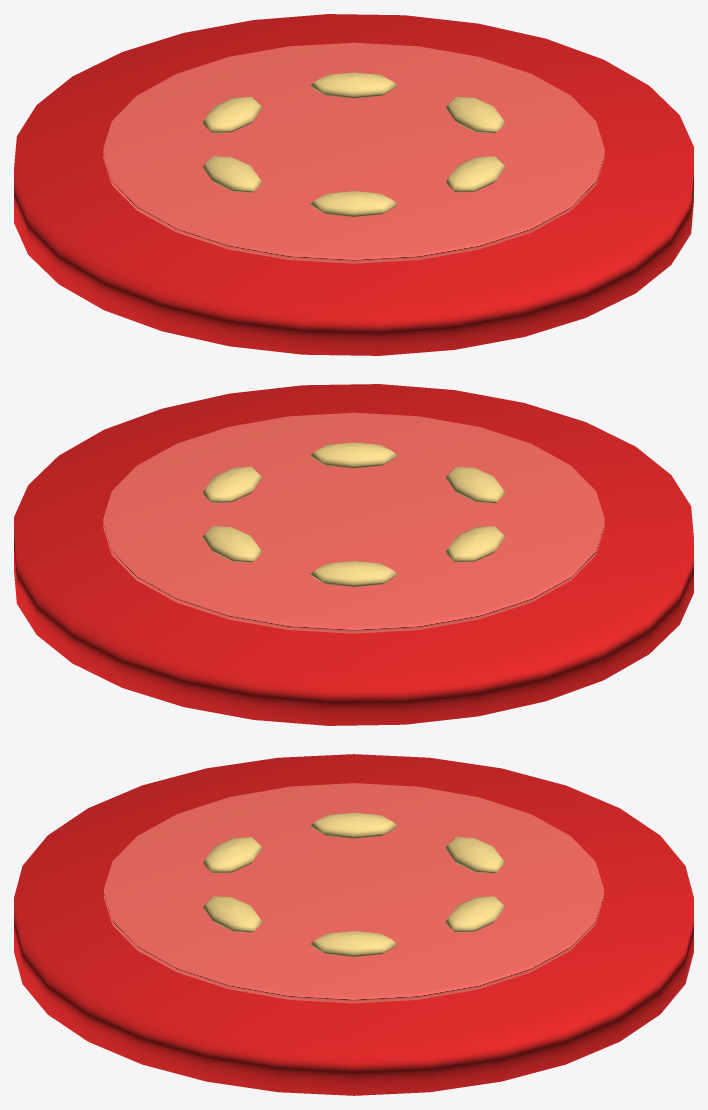
File: burger_tongue.obj
The picture shows the model from 3 angles, top to bottom: view 1: azimuth 30°, elevation 25°; view 2: azimuth 150°, elevation 25°; view 3: azimuth 270°, elevation 25°; orthographic projection.
Parts seen in each view (by area): view 1: BurgerTongue; view 2: BurgerTongue; view 3: BurgerTongue.
Part boxes in pixels (x1,y1,x2,y2): BurgerTongue: [14, 14, 693, 355]; BurgerTongue: [14, 384, 693, 725]; BurgerTongue: [14, 754, 693, 1095].
Bounding box in the file's own units: 0.34 × 0.042 × 0.34.
